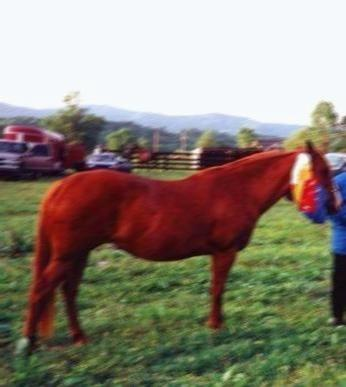horse: (13, 138, 342, 357)
